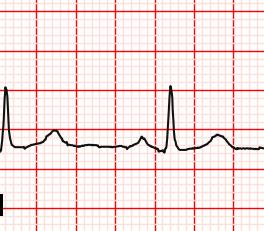LVH: (201, 130, 234, 151)
